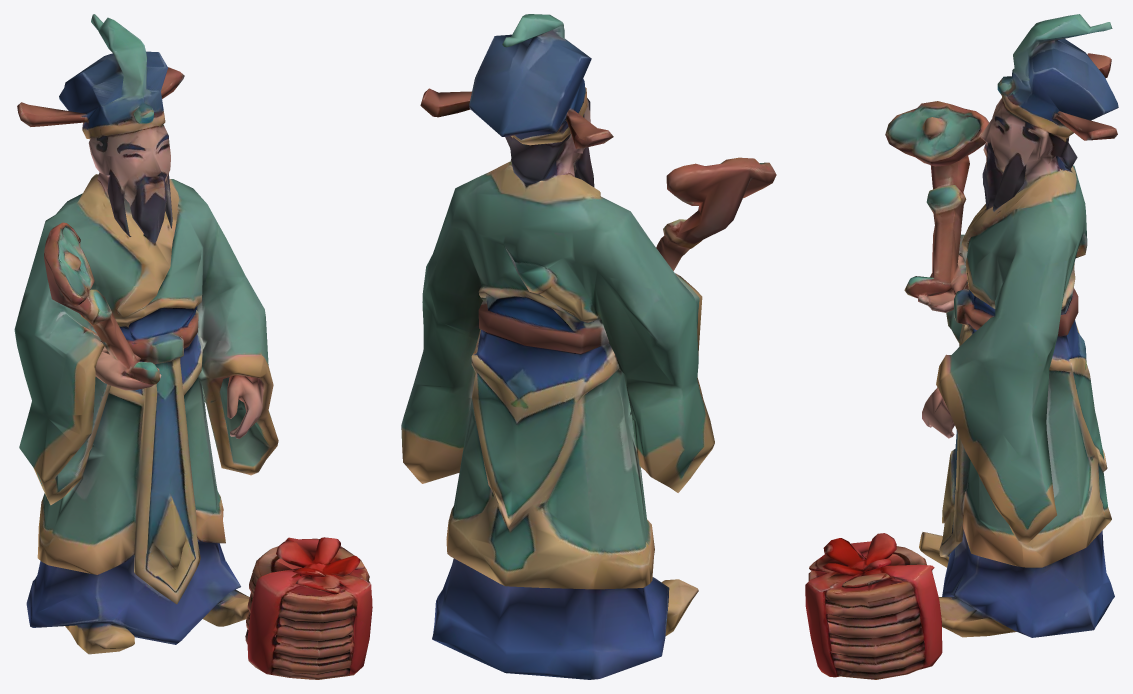
Rendered from ss_lushen.glb.
3 renders of one model, left to right at view 1: azimuth 30°, elevation 25°; view 2: azimuth 150°, elevation 25°; view 3: azimuth 270°, elevation 25°, orthographic. The views are drawn at different scales.
Parts seen in each view (by area): view 1: tripo_node_5a778758-061c-4c4c-afa5-4fc3557f99eb; view 2: tripo_node_5a778758-061c-4c4c-afa5-4fc3557f99eb; view 3: tripo_node_5a778758-061c-4c4c-afa5-4fc3557f99eb.
Boxes of the visible parts, bbox=[...] form: tripo_node_5a778758-061c-4c4c-afa5-4fc3557f99eb: bbox=[14, 14, 372, 679]; tripo_node_5a778758-061c-4c4c-afa5-4fc3557f99eb: bbox=[401, 14, 776, 679]; tripo_node_5a778758-061c-4c4c-afa5-4fc3557f99eb: bbox=[805, 14, 1118, 679].
Bounding box in the file's own units: 0.5115 × 0.9987 × 0.4729.
1 material, 1 textured.
